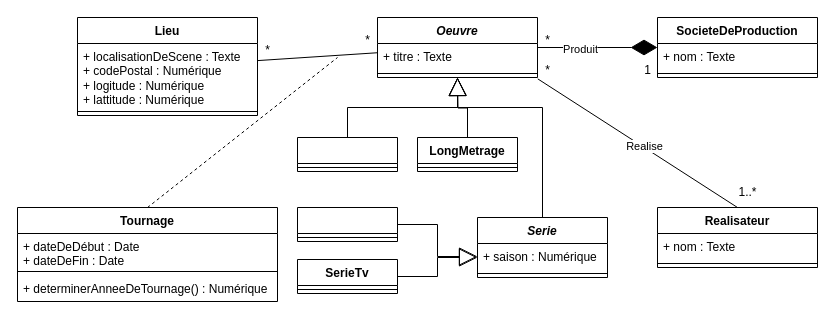
Image size: 835x322. Some labels were removed from this diagram. The centre of each missing label's shape, as x and y in pixels:
"SerieWeb" goes at point (347, 224).
"Telefilm" goes at point (347, 154).
